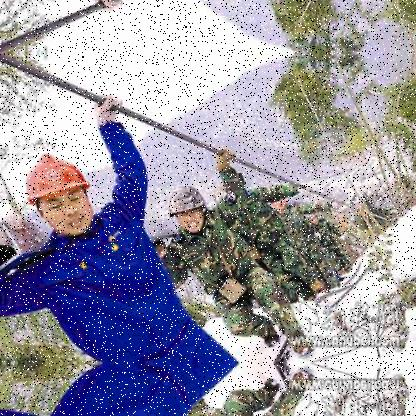Helmet: (20, 150, 104, 248), (164, 186, 212, 241)
